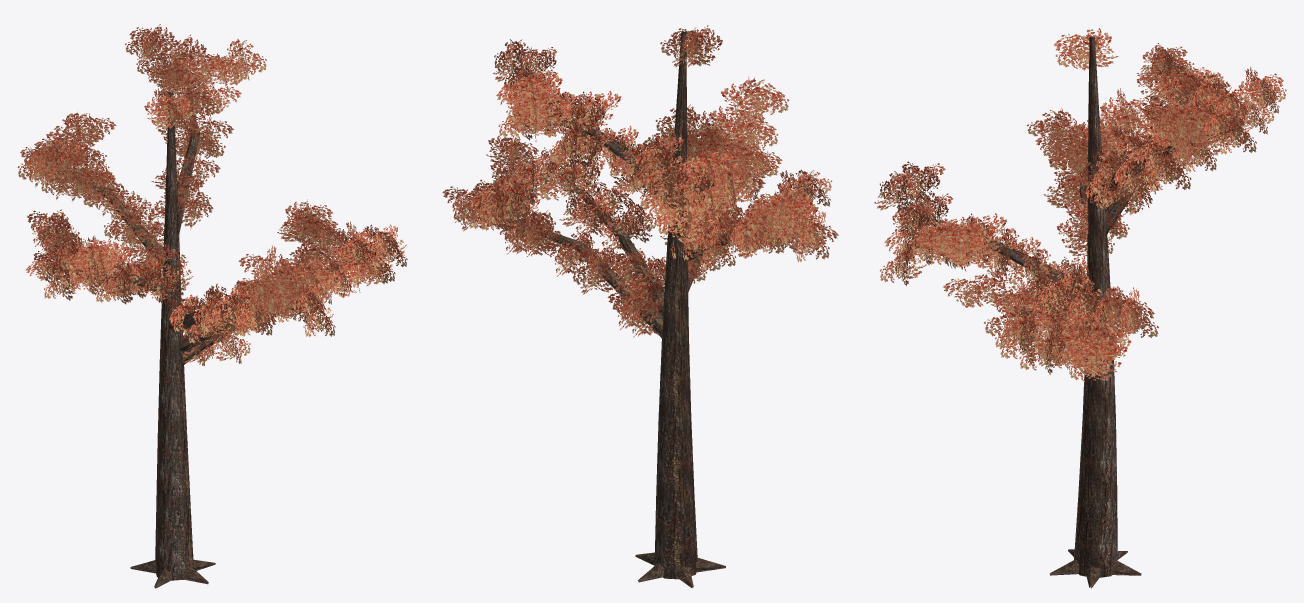
Rendered from tree_3d_01_copper_lod1.glb.
3 views of the same model, side by side, from view 1: azimuth 30°, elevation 25°; view 2: azimuth 150°, elevation 25°; view 3: azimuth 270°, elevation 25° (orthographic). The views are drawn at different scales.
Parts seen in each view (by area): view 1: foliage_cards, wood_geometry; view 2: foliage_cards, wood_geometry; view 3: foliage_cards, wood_geometry.
Boxes of the visible parts, bbox=[...] form: foliage_cards: bbox=[17, 24, 407, 365]; wood_geometry: bbox=[62, 73, 347, 588]; foliage_cards: bbox=[442, 25, 838, 337]; wood_geometry: bbox=[477, 31, 794, 588]; foliage_cards: bbox=[874, 28, 1286, 386]; wood_geometry: bbox=[915, 36, 1233, 588].
Size of the model in its own units: 7.11 by 9.14 by 6.44.
2 materials, 2 textured.
